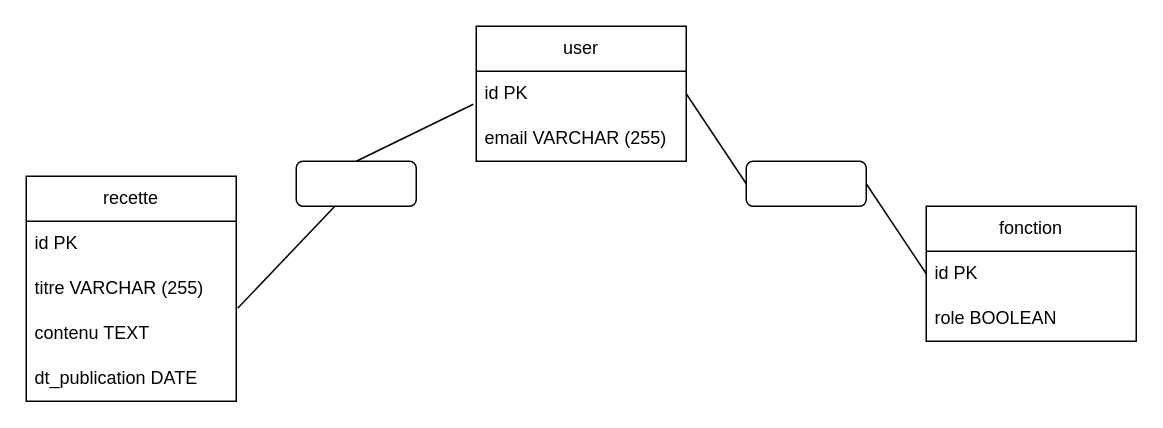
This 1163x428 diagram has some shape labels left out. Here are the shapes that lost their labels. From the top down, the centre of each, then its label:
At pixel 355 183: "rediger".
At pixel 805 183: "est".
